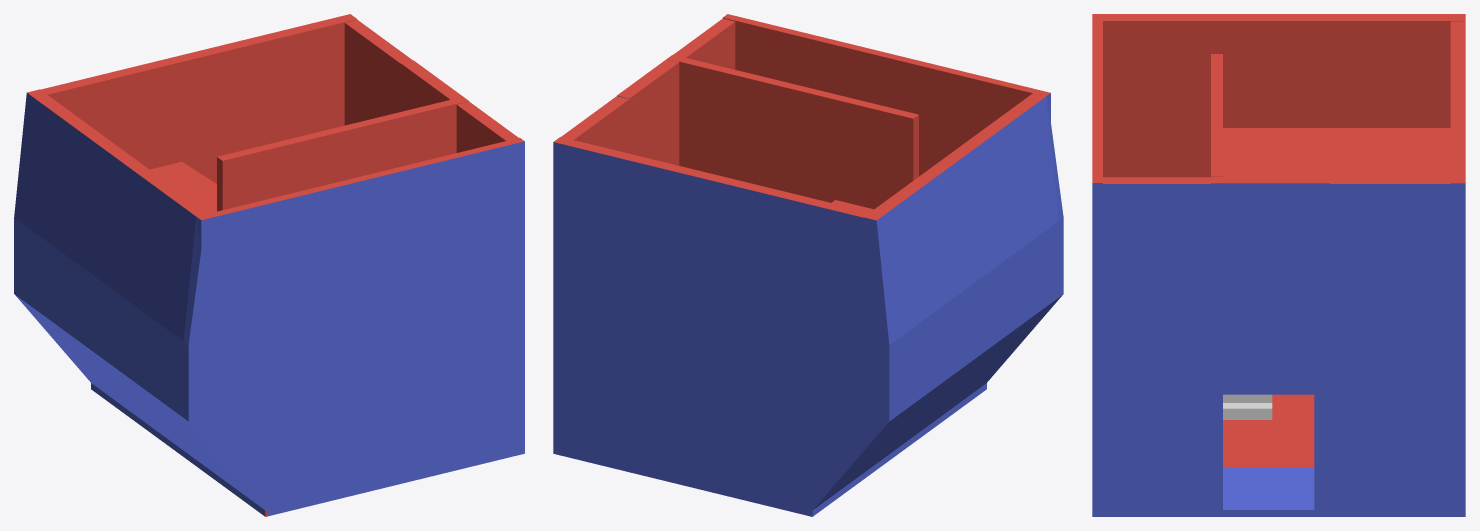
Rendered from globalHouse 1.fbx.
3 views of the same model, side by side, from view 1: azimuth 30°, elevation 25°; view 2: azimuth 150°, elevation 25°; view 3: azimuth 270°, elevation 25° (orthographic). The views are drawn at different scales.
Visible parts, largest first — view 1: Cube; view 2: Cube; view 3: Cube, Куб.
Boxes of the visible parts, <box> form: Cube: <box>14,14,524,516</box>; Cube: <box>553,14,1063,516</box>; Cube: <box>1092,14,1465,516</box>; Куб: <box>1223,394,1272,419</box>.
Bounding box in the file's own units: 892 × 792 × 801.
